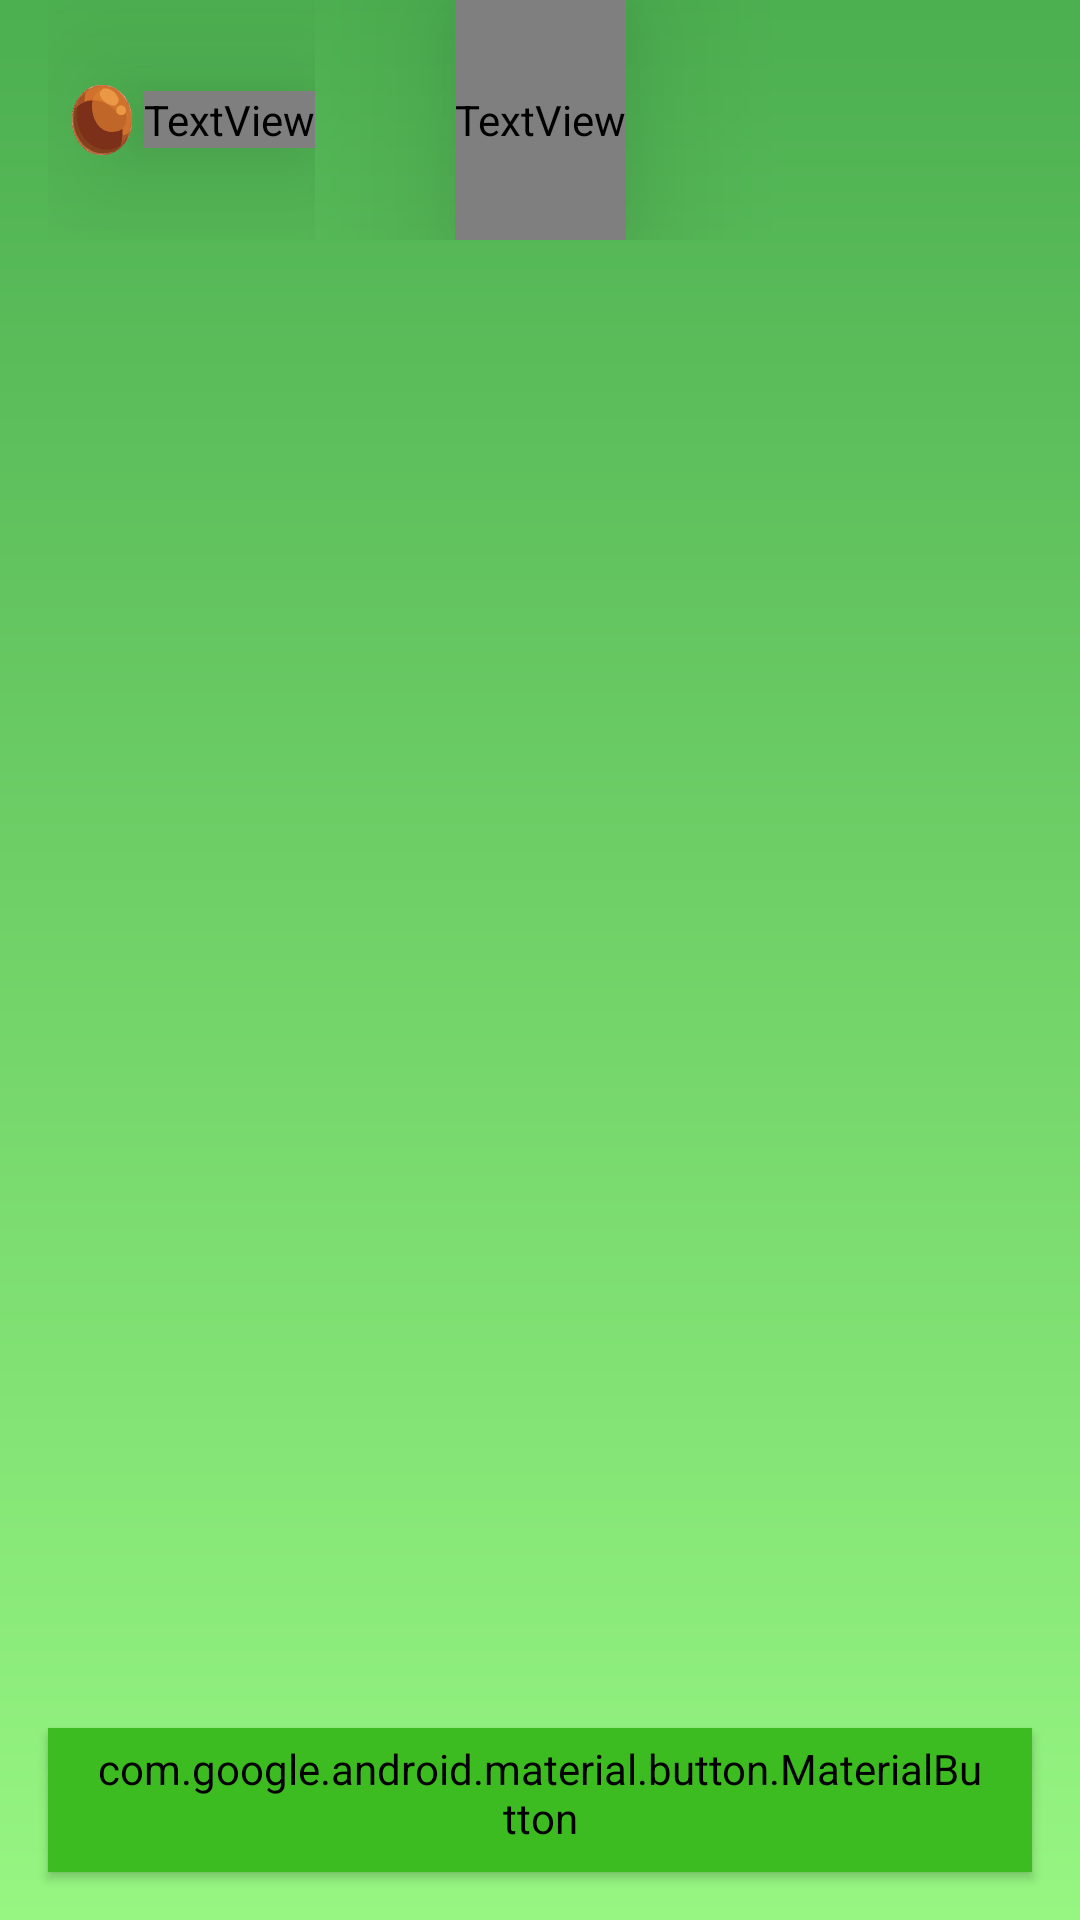

Named icons in this screenshot (1080w x 1920h) and their bounding boxes, Rect(x1, y1, x2, y2):
seed: Rect(72, 85, 132, 155)
